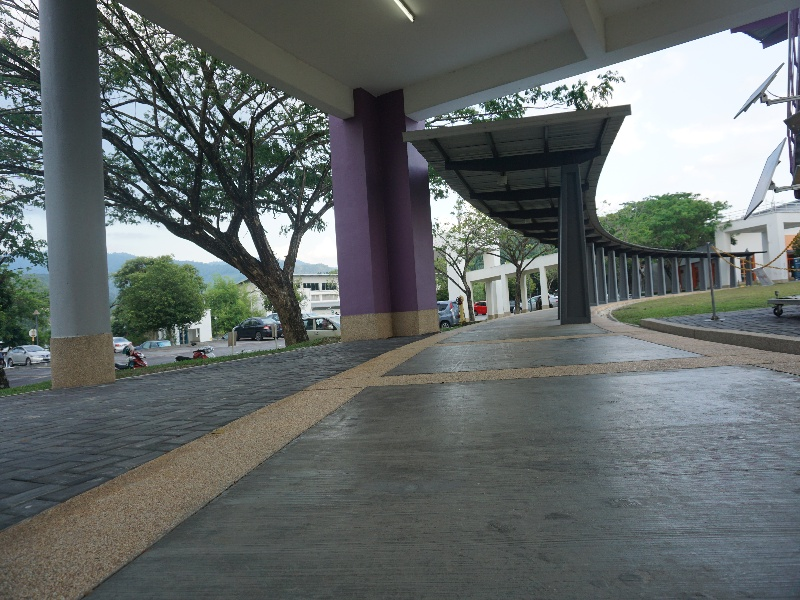Block D Pillar 6: (6, 4, 800, 502)
pillar: (26, 9, 127, 385), (324, 86, 440, 335), (551, 160, 593, 324)
